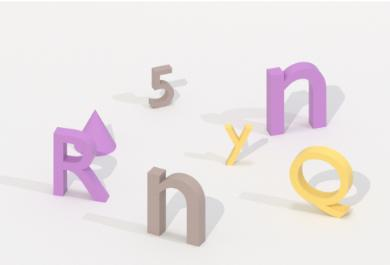0-TamGiac: (73, 107, 118, 162)
5: (147, 60, 178, 114)
Q: (286, 142, 358, 222)
n: (261, 58, 331, 138), (144, 162, 208, 249)
y: (220, 118, 256, 170)
